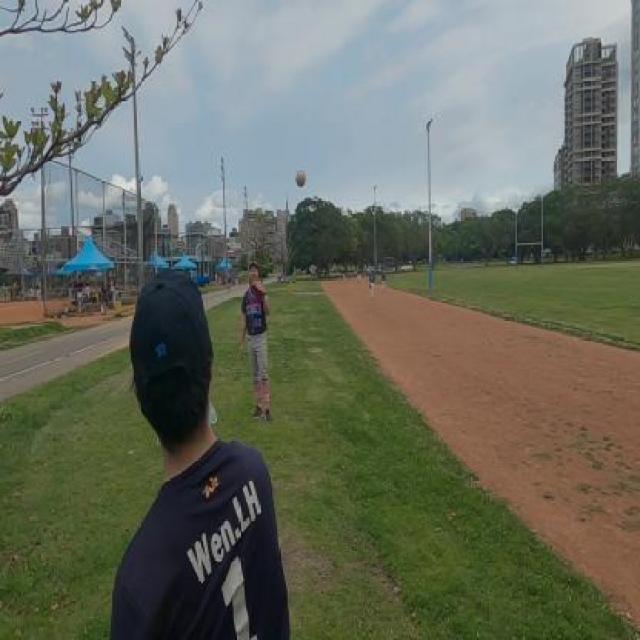baseball: (296, 170, 306, 187)
